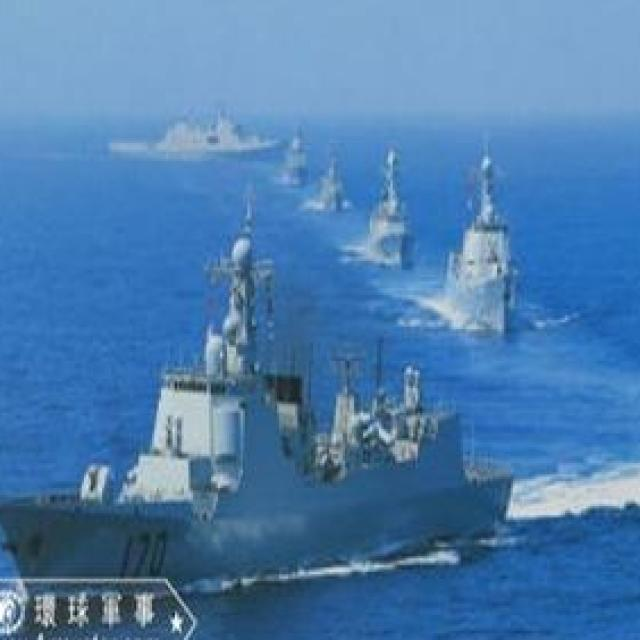navalvessels: (0, 225, 504, 624), (423, 144, 543, 340), (111, 100, 273, 158), (364, 136, 419, 261), (288, 150, 355, 217), (278, 138, 310, 184)
